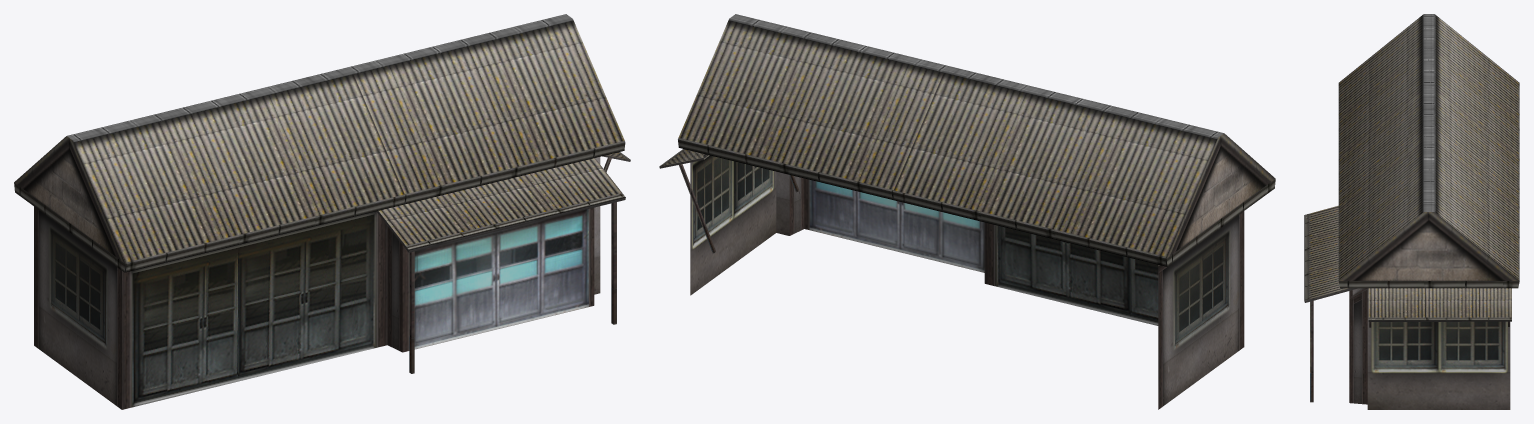
The model's file is sangga_japan1.FBX.
3 renders of one model, left to right at view 1: azimuth 30°, elevation 25°; view 2: azimuth 150°, elevation 25°; view 3: azimuth 270°, elevation 25°, orthographic. The views are drawn at different scales.
Parts seen in each view (by area): view 1: Box002; view 2: Box002; view 3: Box002.
Part boxes in pixels (box(x1,y1,x2,y2)): Box002: box(14, 14, 630, 409); Box002: box(659, 14, 1275, 409); Box002: box(1304, 14, 1519, 409).
Bounding box in the file's own units: 61.91 × 27.95 × 27.19.
1 material, 1 textured.
